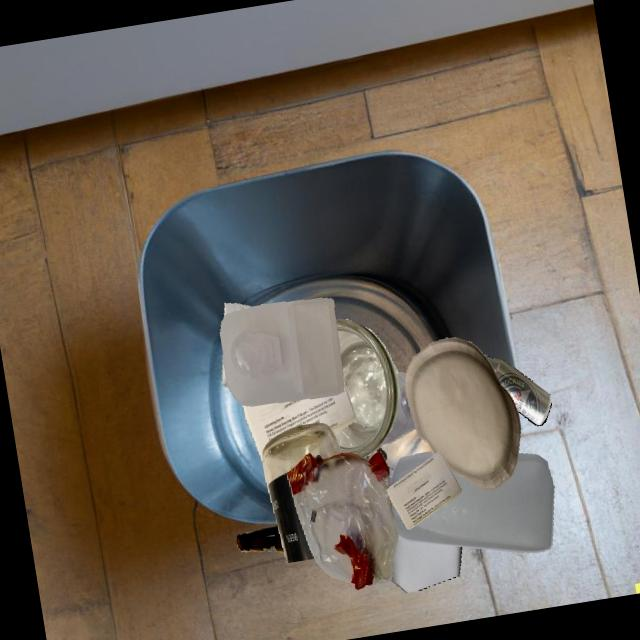glass: (262, 423, 342, 563), (334, 319, 400, 458), (236, 525, 284, 554)
metal: (482, 352, 552, 426)
paper: (404, 337, 521, 490), (243, 380, 356, 461), (387, 451, 462, 529), (408, 541, 462, 591), (391, 536, 417, 593), (224, 303, 253, 318), (222, 353, 229, 388)
plastic: (392, 453, 554, 552), (287, 451, 398, 591), (220, 298, 344, 406), (382, 371, 416, 445)
